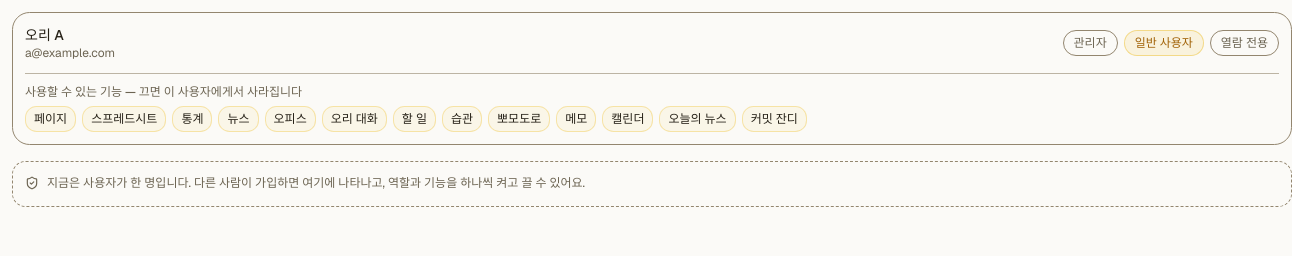
Test: AdminUserPanel — 관리자 › 역할 변경 실패(원문 있음)는 원문 그대로 보여준다
The width and height of the screenshot is (1292, 256).
Step 1. Click the button "관리자" → [1090, 43], box x1=1063 y1=30 x2=1118 y2=56
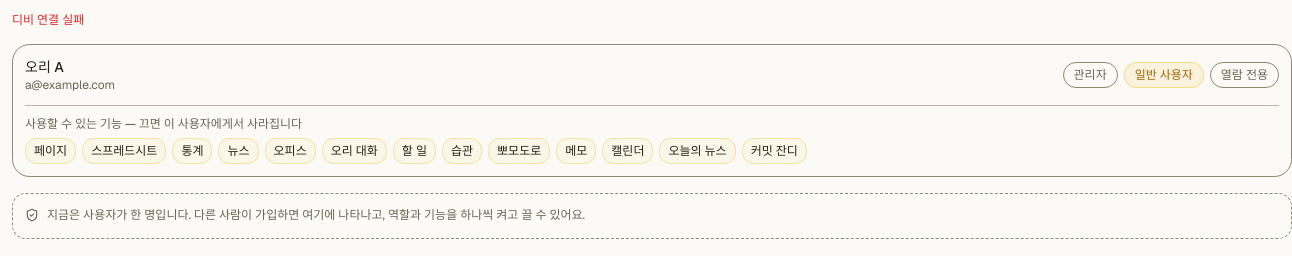
expect the text "디비 연결 실패" is shown: met, box x1=12 y1=12 x2=84 y2=28
